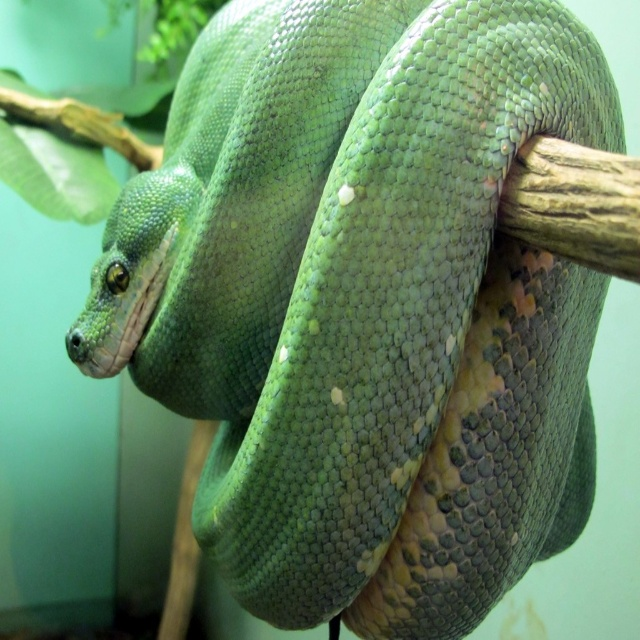Snake: (65, 1, 627, 639)
